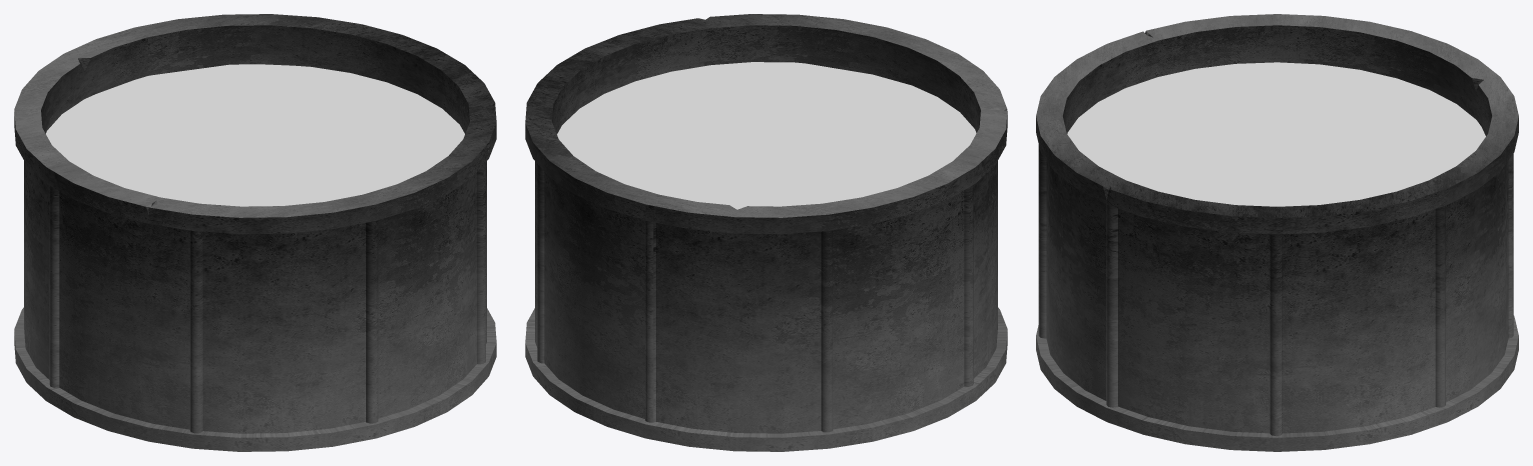
Rendered from Acid_01.FBX.
3 renders of one model, left to right at view 1: azimuth 30°, elevation 25°; view 2: azimuth 150°, elevation 25°; view 3: azimuth 270°, elevation 25°, orthographic.
Parts seen in each view (by area): view 1: Cylinder128, Plane008, Object025; view 2: Cylinder128, Plane008, Object025; view 3: Cylinder128, Plane008, Object025.
Part boxes in pixels (box(x1,y1,x2,y2)): Cylinder128: box(14, 161, 496, 451); Plane008: box(46, 64, 464, 206); Object025: box(14, 14, 496, 234); Cylinder128: box(525, 161, 1007, 451); Plane008: box(557, 62, 976, 209); Object025: box(525, 14, 1007, 234); Cylinder128: box(1036, 145, 1518, 451); Plane008: box(1067, 62, 1485, 206); Object025: box(1036, 14, 1518, 234).
Bounding box in the file's own units: 493 × 263 × 493.
1 material, 1 textured.
